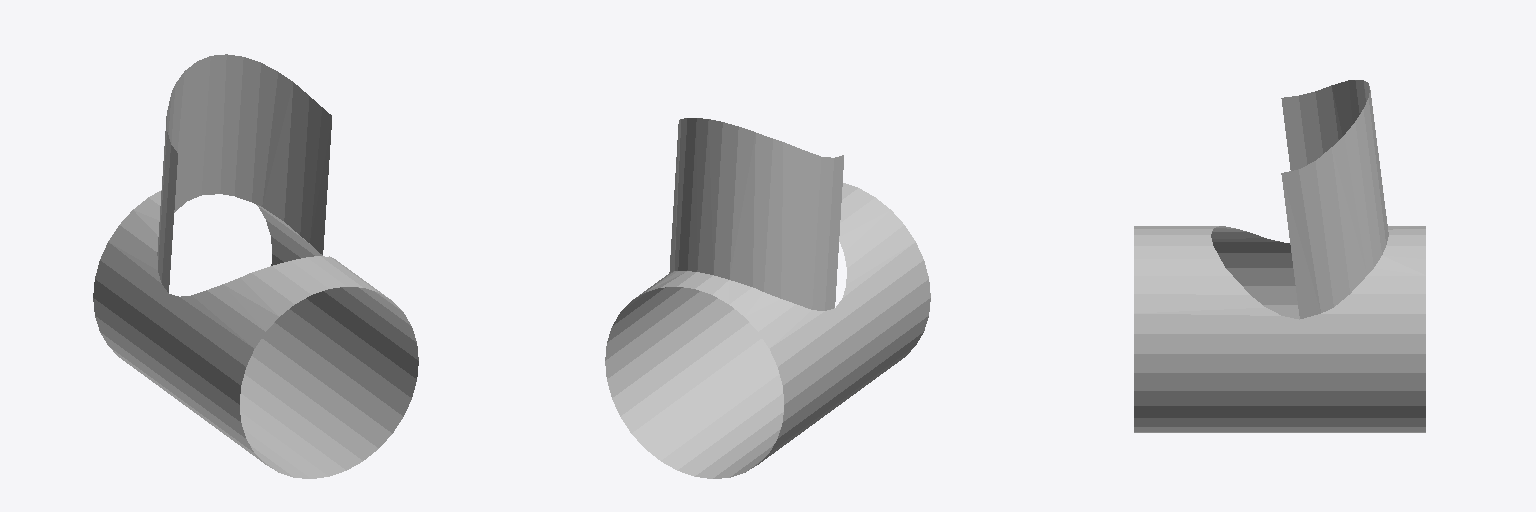
Rendered from cylinder_in_bis.obj.
3 renders of one model, left to right at view 1: azimuth 30°, elevation 25°; view 2: azimuth 150°, elevation 25°; view 3: azimuth 270°, elevation 25°, orthographic.
Visible parts, largest first — view 1: Cylinder.002; view 2: Cylinder.002; view 3: Cylinder.002.
Boxes of the visible parts, <box> form: Cylinder.002: <box>93,54,418,478</box>; Cylinder.002: <box>605,118,930,478</box>; Cylinder.002: <box>1134,80,1425,432</box>.
Bounding box in the file's own units: 2.33 × 4.15 × 3.29.